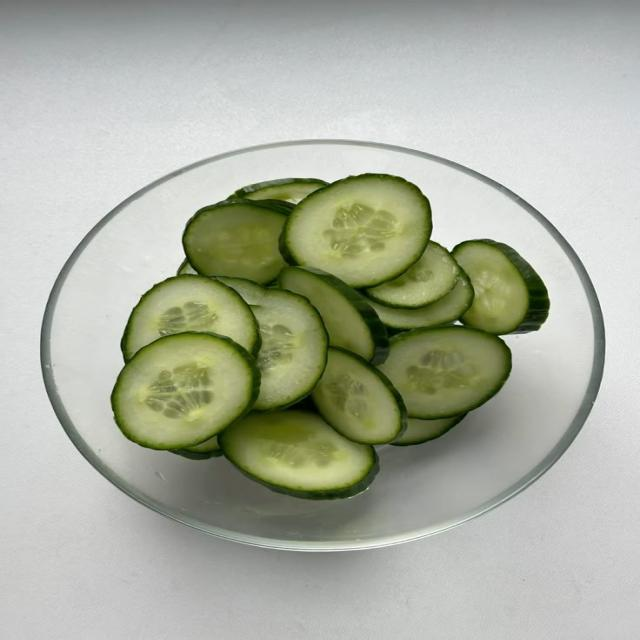cucumber sliced: (112, 333, 259, 450), (281, 174, 431, 287), (220, 410, 378, 499), (380, 327, 511, 419), (121, 275, 259, 360), (279, 267, 388, 363), (252, 290, 328, 410), (454, 240, 549, 334), (313, 348, 406, 444), (183, 200, 290, 283), (366, 241, 459, 308), (371, 270, 473, 330), (391, 413, 466, 446), (230, 179, 327, 203), (215, 277, 266, 305), (172, 436, 222, 459), (186, 436, 221, 454), (177, 259, 196, 275)
